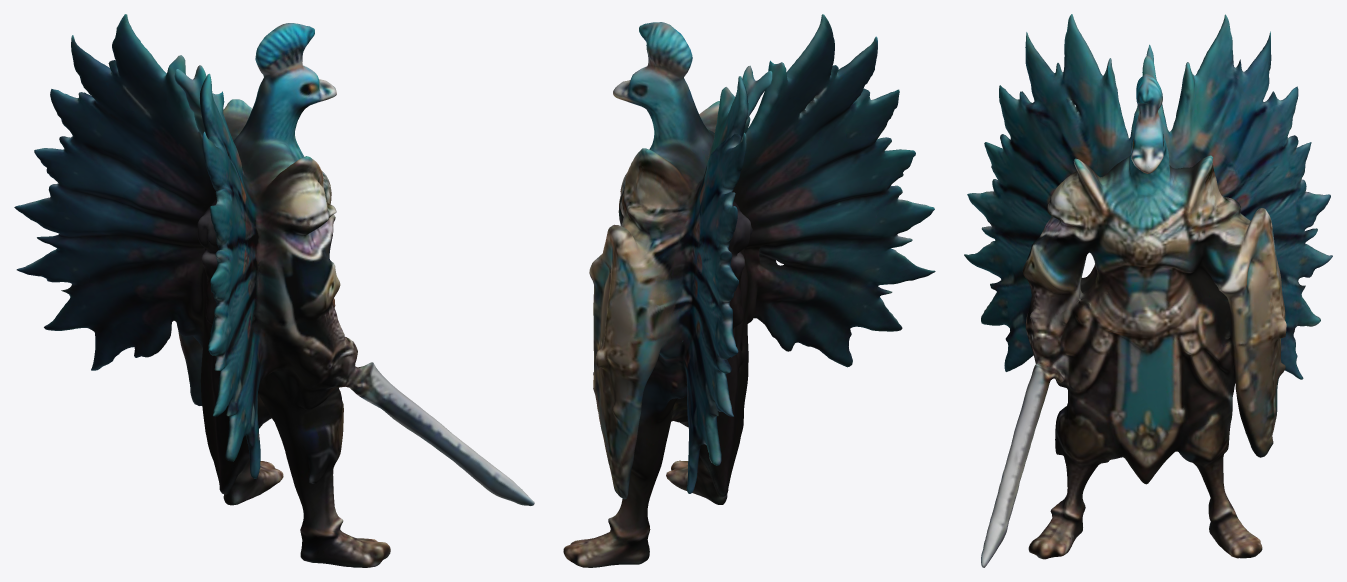
Rendered from peacock_warrior.glb.
The picture shows the model from 3 angles, left to right: view 1: azimuth 30°, elevation 25°; view 2: azimuth 150°, elevation 25°; view 3: azimuth 270°, elevation 25°; orthographic projection. The views are drawn at different scales.
Visible parts, largest first — view 1: tripo_node_153b9a75-58c1-4402-ae42-a347992e2489; view 2: tripo_node_153b9a75-58c1-4402-ae42-a347992e2489; view 3: tripo_node_153b9a75-58c1-4402-ae42-a347992e2489.
Boxes of the visible parts, <box> form: tripo_node_153b9a75-58c1-4402-ae42-a347992e2489: <box>14,14,534,567</box>; tripo_node_153b9a75-58c1-4402-ae42-a347992e2489: <box>563,14,935,567</box>; tripo_node_153b9a75-58c1-4402-ae42-a347992e2489: <box>964,14,1332,567</box>.
Size of the model in its own units: 0.5117 by 0.7533 by 0.5298.
Materials: 1 (1 with a texture image).
